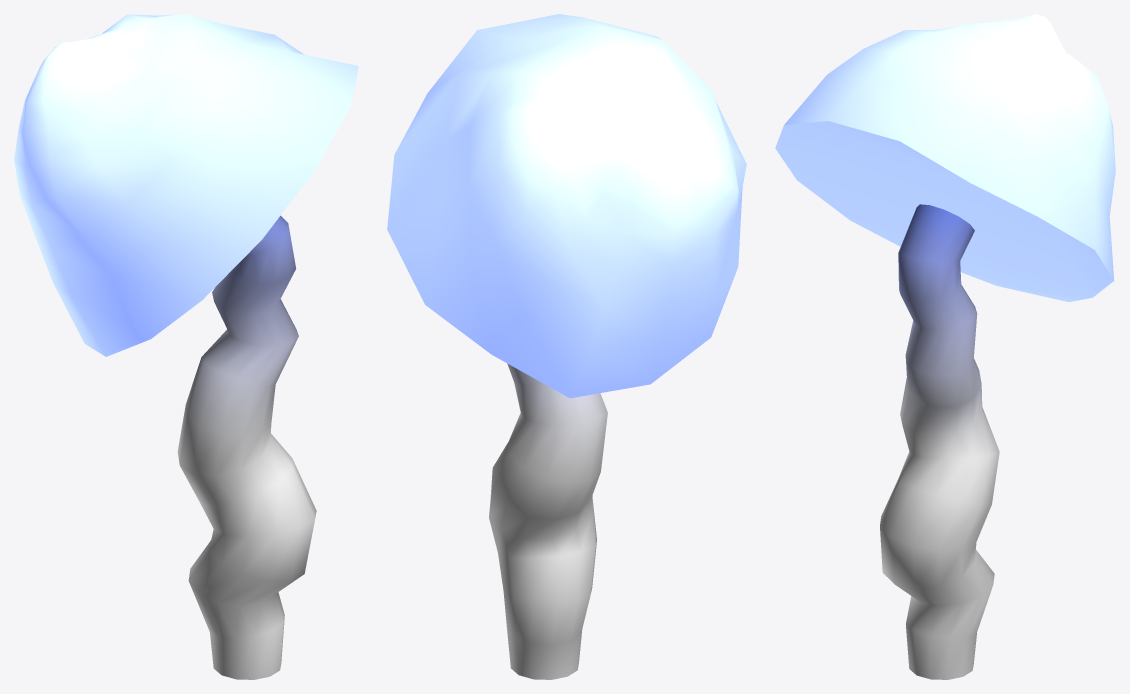
File: mushroom_6.glb
3 renders of one model, left to right at view 1: azimuth 30°, elevation 25°; view 2: azimuth 150°, elevation 25°; view 3: azimuth 270°, elevation 25°, orthographic. The views are drawn at different scales.
Visible parts, largest first — view 1: geo1; view 2: geo1; view 3: geo1.
Part boxes in pixels (<box>): geo1: <box>14,14,358,679</box>; geo1: <box>387,14,746,679</box>; geo1: <box>775,14,1115,679</box>.
Size of the model in its own units: 0.1341 by 0.2761 by 0.1412.
